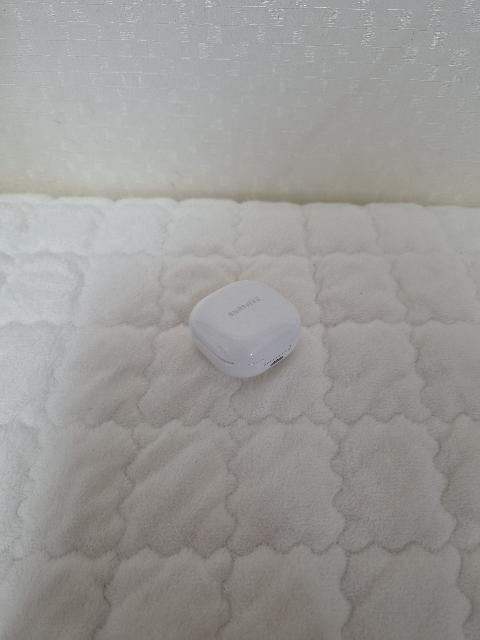earphone_case: (189, 280, 301, 379)
